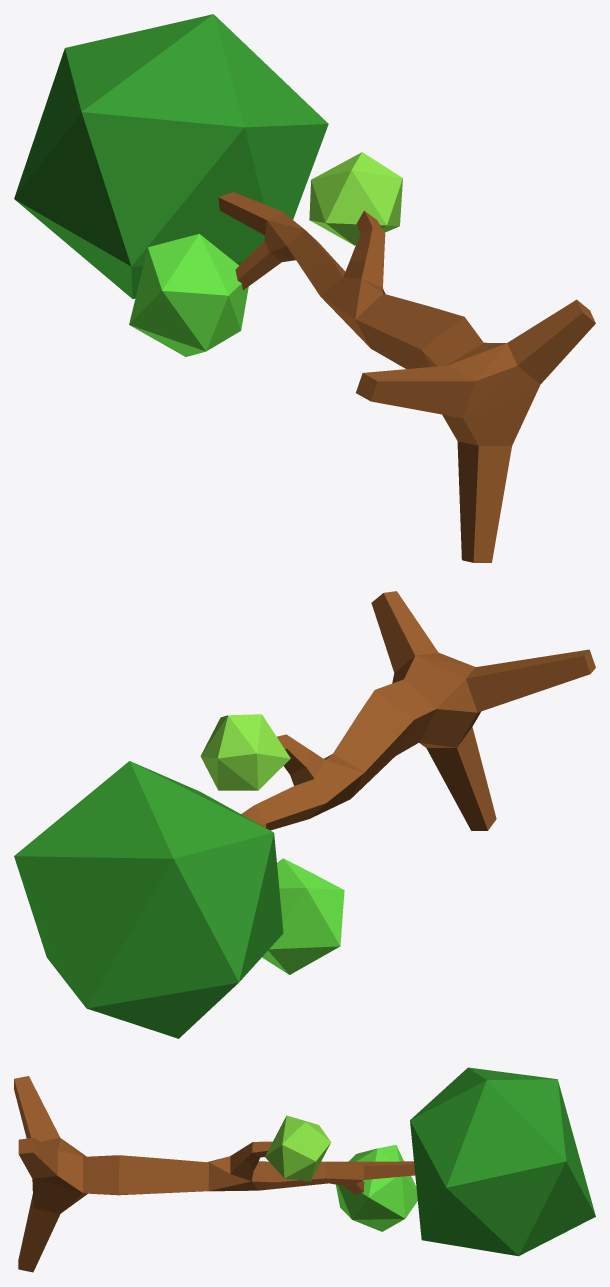
The model's file is Pohon3.fbx.
3 renders of one model, top to bottom at view 1: azimuth 30°, elevation 25°; view 2: azimuth 150°, elevation 25°; view 3: azimuth 270°, elevation 25°, orthographic. The views are drawn at different scales.
Visible parts, largest first — view 1: Pohon 3; view 2: Pohon 3; view 3: Pohon 3.
Part boxes in pixels (x1=…): Pohon 3: x1=14, y1=14, x2=595, y2=562; Pohon 3: x1=14, y1=591, x2=595, y2=1038; Pohon 3: x1=14, y1=1067, x2=595, y2=1272.
Bounding box in the file's own units: 85.67 × 91.04 × 228.
